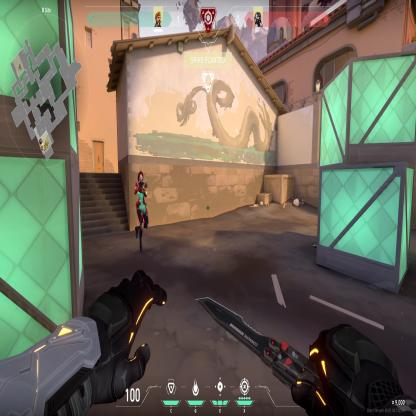enemy: (132, 169, 151, 252)
